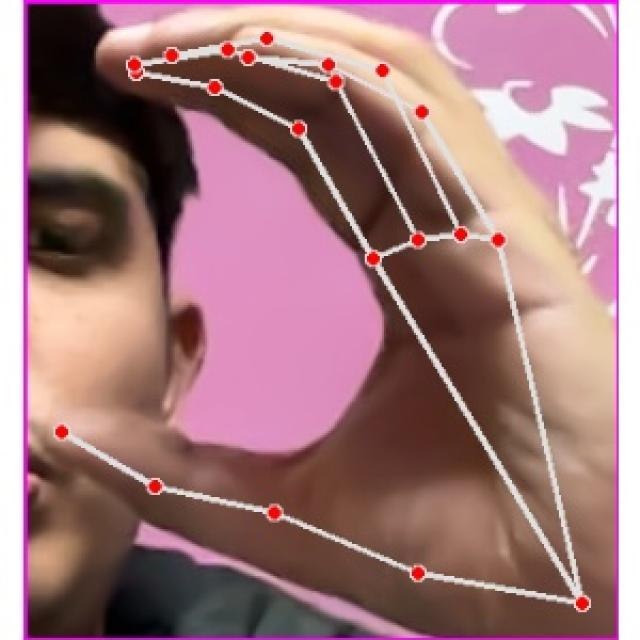C: (40, 8, 618, 640)
